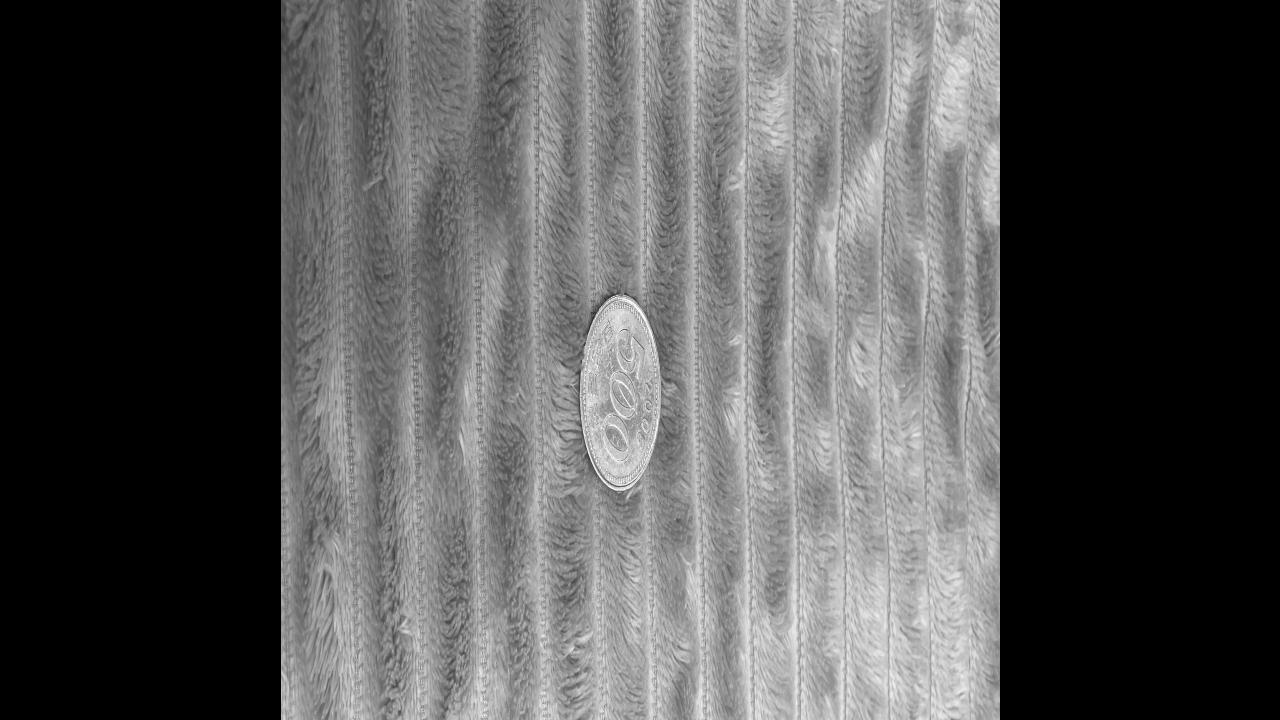coin: (578, 294, 658, 494)
